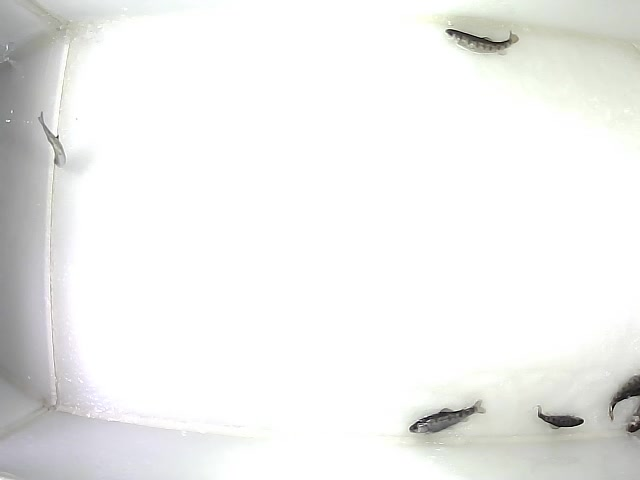fish: (407, 398, 487, 436), (443, 26, 521, 57), (35, 109, 69, 171), (532, 403, 584, 431)
